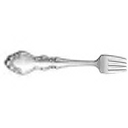Fork: (4, 39, 128, 89)
